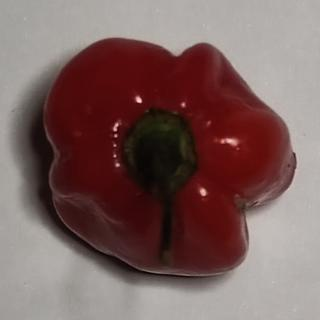Grade-B: (31, 30, 302, 281)
